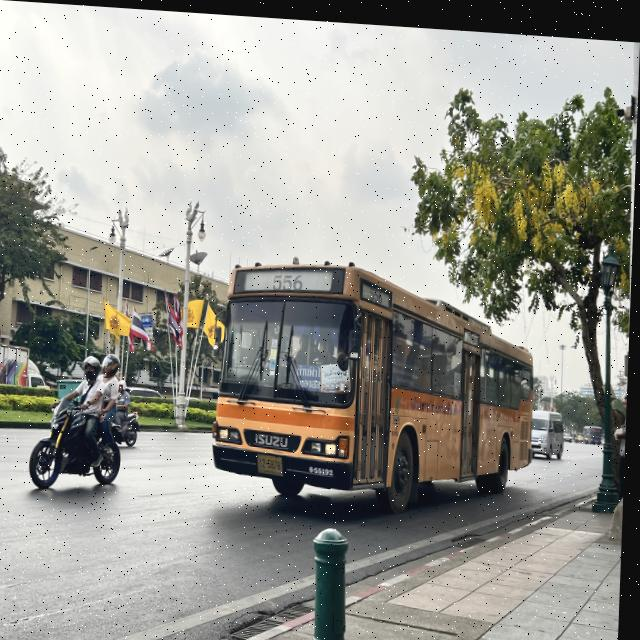BMTA-bus: (214, 253, 541, 516)
Bus-Line-Number: (272, 269, 310, 290), (369, 278, 387, 300)
Destination-Sign-Normal: (297, 359, 325, 387)
TSB-Bus: (591, 420, 606, 435)
